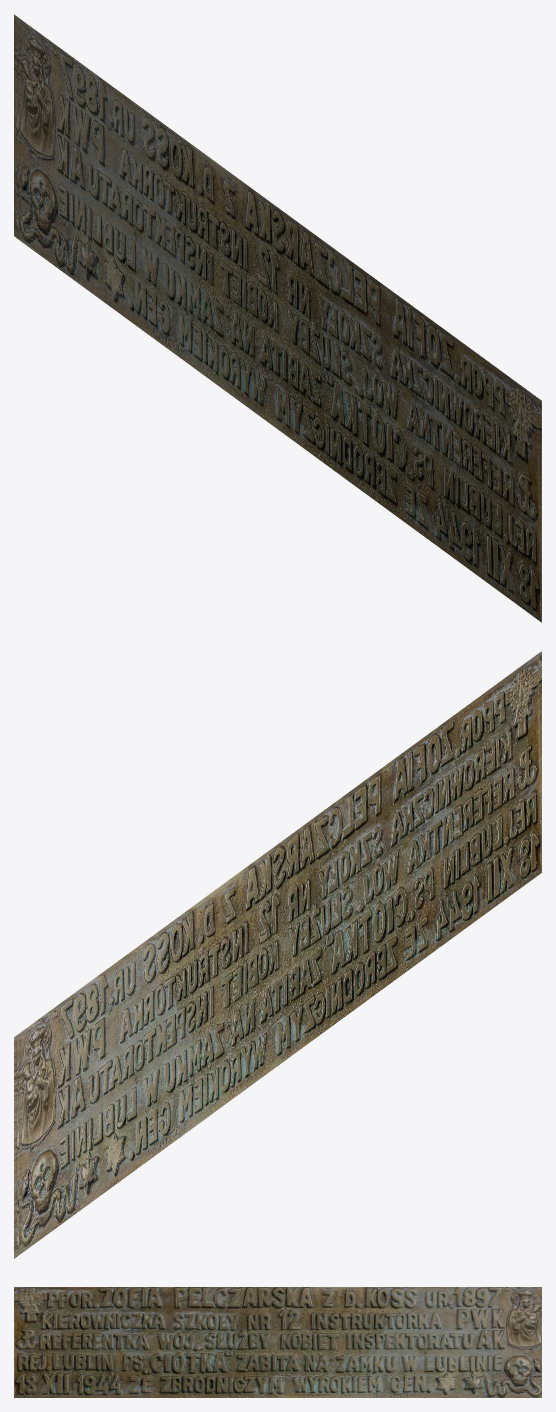
File: 29. ppor. ZOFIA PELCZARSKA Z D. KOSS ur. 1897.glb
3 views of the same model, one above another, from view 1: azimuth 30°, elevation 25°; view 2: azimuth 150°, elevation 25°; view 3: azimuth 270°, elevation 25° (orthographic). The views are drawn at different scales.
Parts seen in each view (by area): view 1: Plane; view 2: Plane; view 3: Plane.
Boxes of the visible parts, x1,y1,x2,y2 form: Plane: (14, 14, 541, 622); Plane: (14, 651, 541, 1258); Plane: (14, 1287, 541, 1397).
Bounding box in the file's own units: 0.0102 × 6 × 25.9.
Materials: 1 (1 with a texture image).
